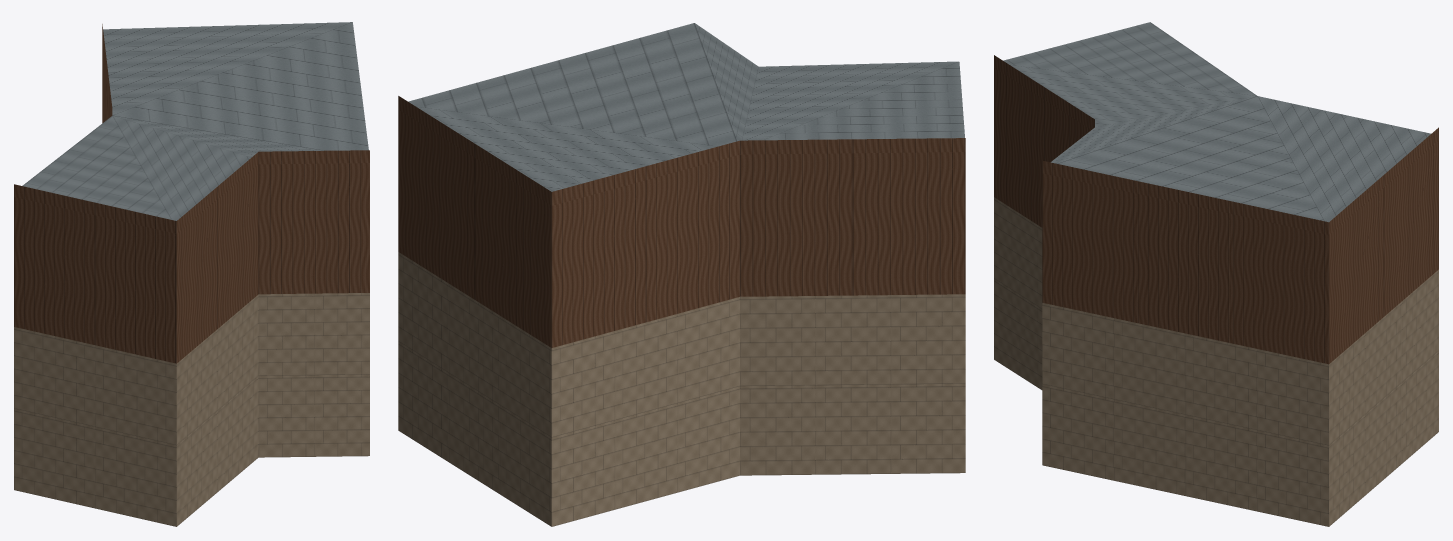
The model's file is core_0131.gltf.
The picture shows the model from 3 angles, left to right: view 1: azimuth 30°, elevation 25°; view 2: azimuth 150°, elevation 25°; view 3: azimuth 270°, elevation 25°; orthographic projection. The views are drawn at different scales.
Parts seen in each view (by area): view 1: core_0131; view 2: core_0131; view 3: core_0131.
Part boxes in pixels (x1,y1,x2,y2): core_0131: [14, 22, 369, 526]; core_0131: [398, 23, 965, 526]; core_0131: [994, 22, 1438, 526].
Size of the model in its own units: 13.31 by 9.08 by 12.02.
3 materials, 3 textured.
